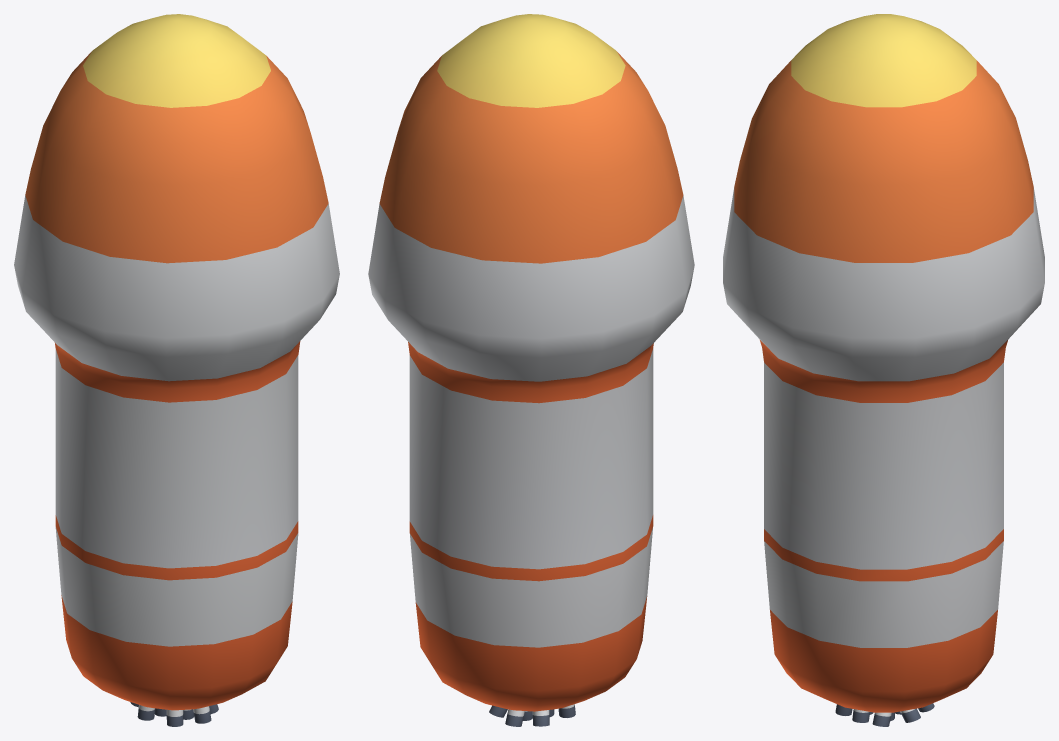
File: F_P_Fireworks_4_1.FBX
3 views of the same model, side by side, from view 1: azimuth 30°, elevation 25°; view 2: azimuth 150°, elevation 25°; view 3: azimuth 270°, elevation 25° (orthographic).
Visible parts, largest first — view 1: F_P_Fireworks_4_1; view 2: F_P_Fireworks_4_1; view 3: F_P_Fireworks_4_1.
Boxes of the visible parts, bbox=[...] form: F_P_Fireworks_4_1: bbox=[14, 14, 339, 726]; F_P_Fireworks_4_1: bbox=[368, 14, 694, 726]; F_P_Fireworks_4_1: bbox=[723, 14, 1044, 726].
Bounding box in the file's own units: 54.97 × 131 × 54.97.
